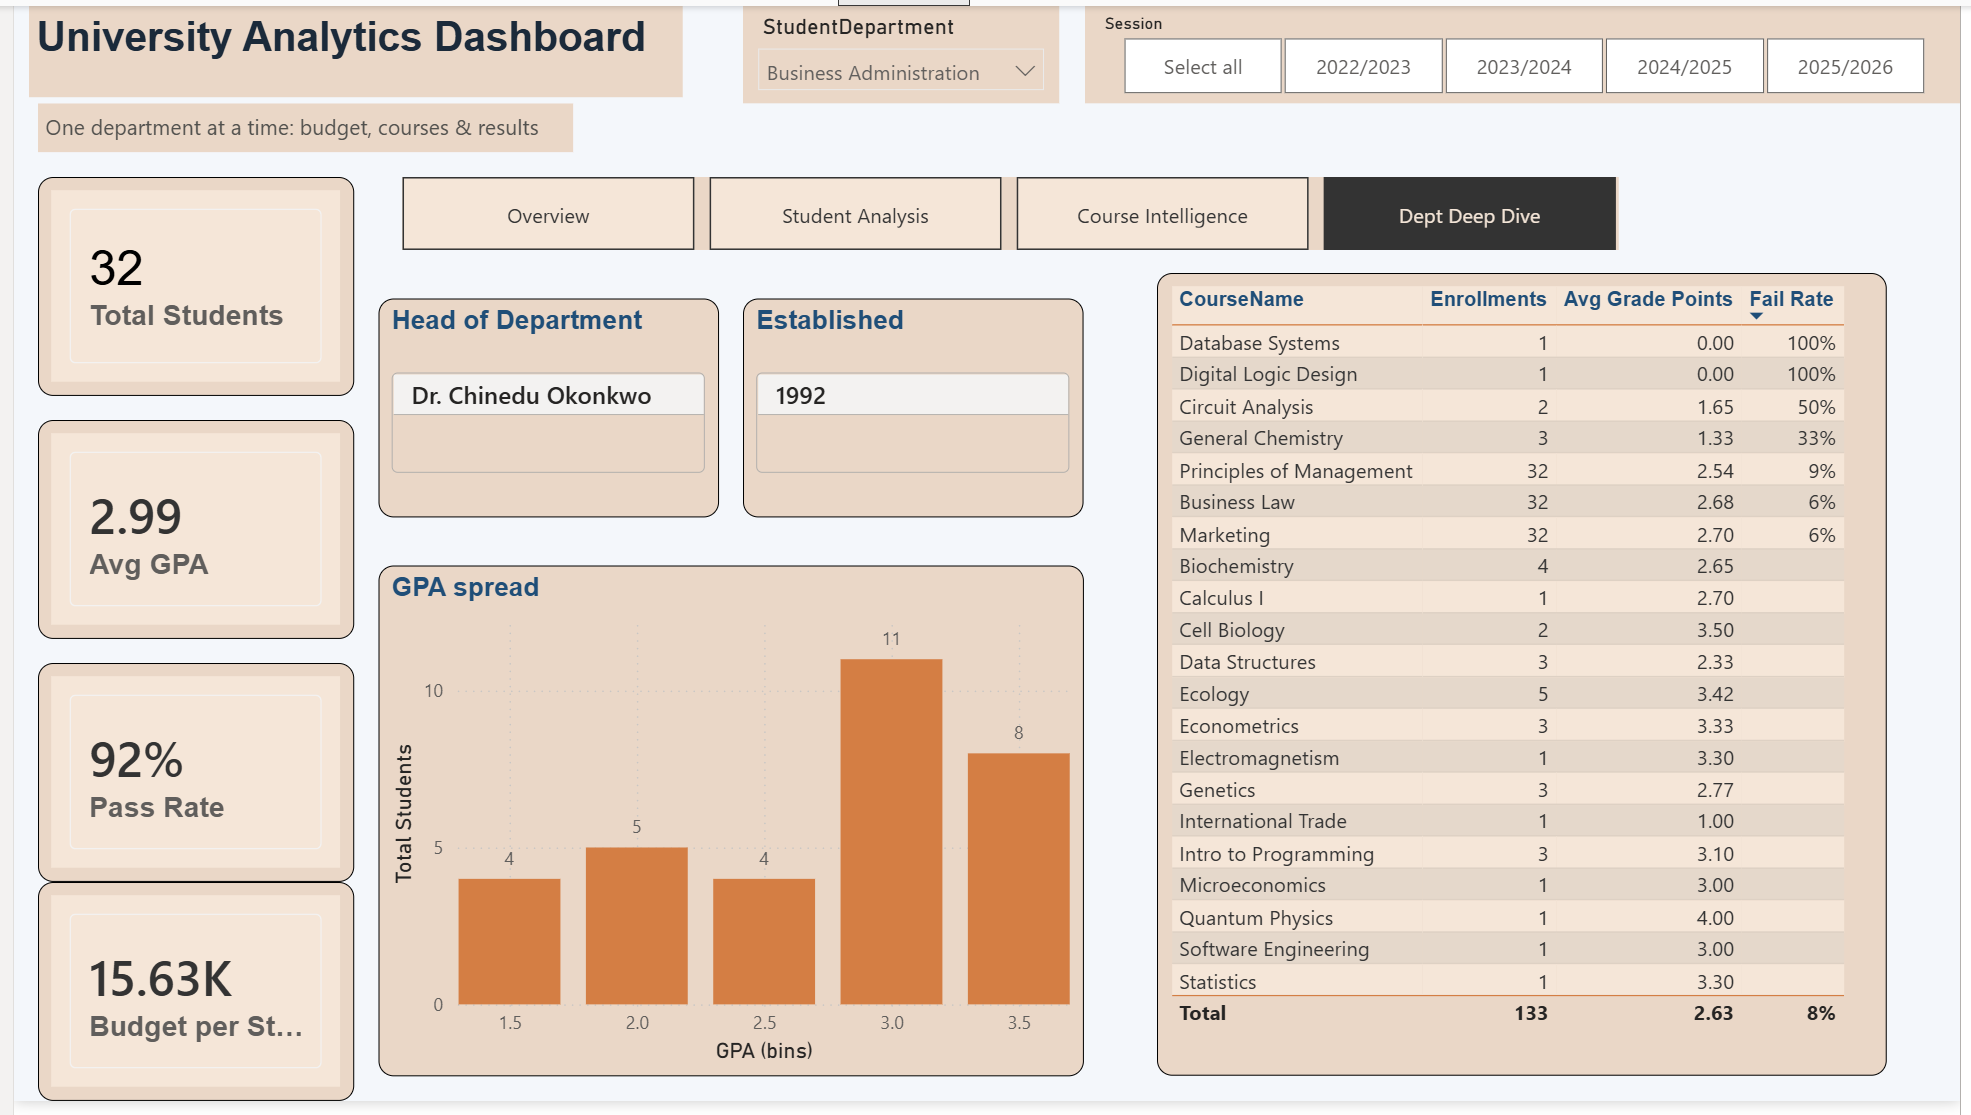

What the dashboard file says about the page in this screenshot:
{"tool":"powerbi","page":{"name":"Dept Deep Dive","canvas":[1280,720],"ordinal":3},"visuals":[{"type":"textbox","box":[10,0,430,60],"z":0},{"type":"textbox","box":[16,64,352,32],"z":1000},{"type":"pageNavigator","box":[256,112,800,48],"z":2000},{"type":"slicer","fields":{"Values":["University_Data.StudentDepartment"]},"box":[1064,0,208,64],"z":3000},{"type":"slicer","fields":{"Values":["University_Data.Session"]},"box":[464,0,576,64],"z":4000},{"type":"cardVisual","title":"Head of Department","fields":{"Rows":["University_Data.DeptHoD"]},"box":[240,192,224,144],"z":5000},{"type":"cardVisual","title":"Established","fields":{"Rows":["University_Data.DeptEstablishedYear"]},"box":[480,192,224,144],"z":6000},{"type":"cardVisual","fields":{"Data":["University_Data.Avg GPA"]},"box":[16,272,208,144],"z":7000},{"type":"cardVisual","fields":{"Data":["University_Data.Budget per Student"]},"box":[16,576,208,144],"z":8000},{"type":"cardVisual","fields":{"Data":["University_Data.Pass Rate"]},"box":[16,432,208,144],"z":9000},{"type":"cardVisual","fields":{"Data":["University_Data.Total Students"]},"box":[16,112,208,144],"z":10000},{"type":"tableEx","fields":{"Values":["University_Data.CourseName","University_Data.Enrollments","University_Data.Avg Grade Points","University_Data.Fail Rate"]},"box":[752,176,480,528],"z":11000},{"type":"clusteredColumnChart","title":"GPA spread","fields":{"Category":["University_Data.GPA (bins)"],"Y":["University_Data.Total Students"]},"box":[240,368,464,336],"z":12000}]}

Visuals, with their boxes in screenshot pixels (x1, y1, x2, y2), scaled from the page's 1280x720 canvas onto the 1971x1115 screenshot:
textbox: (15,0,678,93)
textbox: (25,99,567,149)
pageNavigator: (394,173,1626,248)
slicer - University_Data.StudentDepartment: (1638,0,1959,99)
slicer - University_Data.Session: (714,0,1601,99)
"Head of Department" cardVisual: (370,297,714,520)
"Established" cardVisual: (739,297,1084,520)
cardVisual - University_Data.Avg GPA: (25,421,345,644)
cardVisual - University_Data.Budget per Student: (25,892,345,1114)
cardVisual - University_Data.Pass Rate: (25,669,345,892)
cardVisual - University_Data.Total Students: (25,173,345,396)
tableEx - University_Data.CourseName x University_Data.Enrollments: (1158,273,1897,1090)
"GPA spread" clusteredColumnChart: (370,570,1084,1090)
